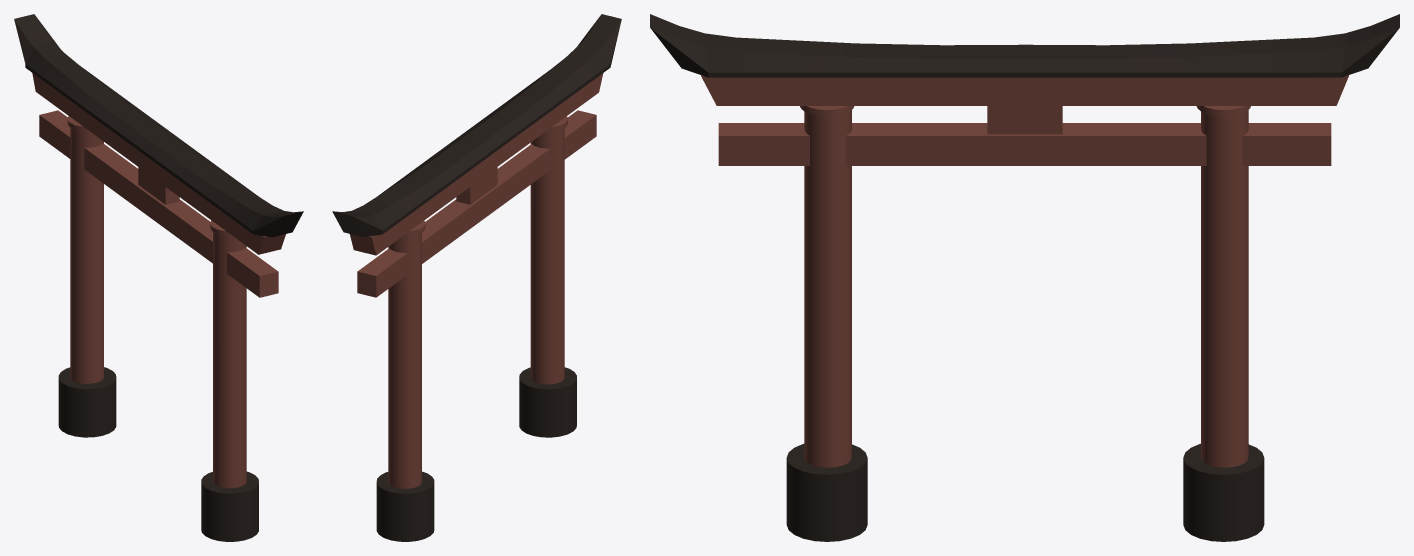
File: shrinegate.fbx
3 views of the same model, side by side, from view 1: azimuth 30°, elevation 25°; view 2: azimuth 150°, elevation 25°; view 3: azimuth 270°, elevation 25° (orthographic). The views are drawn at different scales.
Visible parts, largest first — view 1: roof, pCylinder8, pCylinder6, pCube1, pCube3, pCylinder9, pCylinder5, pCube2; view 2: roof, pCylinder6, pCylinder8, pCube1, pCube3, pCylinder9, pCylinder5, pCube2; view 3: roof, pCube1, pCube3, pCylinder8, pCylinder6, pCylinder9, pCylinder5, pCube2.
Boxes of the visible parts, left/top/right/bottom form: roof: left=14, top=14, right=303, bottom=237; pCylinder8: left=70, top=127, right=103, bottom=383; pCylinder6: left=213, top=232, right=246, bottom=488; pCube1: left=39, top=110, right=278, bottom=297; pCube3: left=32, top=73, right=285, bottom=254; pCylinder9: left=58, top=367, right=116, bottom=437; pCylinder5: left=201, top=471, right=258, bottom=541; pCube2: left=138, top=167, right=179, bottom=204; roof: left=332, top=14, right=621, bottom=237; pCylinder6: left=530, top=128, right=564, bottom=384; pCylinder8: left=388, top=232, right=421, bottom=488; pCube1: left=357, top=110, right=596, bottom=297; pCube3: left=350, top=73, right=603, bottom=255; pCylinder9: left=376, top=471, right=434, bottom=541; pCylinder5: left=519, top=367, right=576, bottom=437; pCube2: left=456, top=167, right=497, bottom=204; roof: left=650, top=14, right=1399, bottom=77; pCube1: left=718, top=123, right=1331, bottom=165; pCube3: left=701, top=75, right=1348, bottom=105; pCylinder8: left=1201, top=110, right=1248, bottom=467; pCylinder6: left=804, top=110, right=851, bottom=467; pCylinder9: left=1183, top=443, right=1264, bottom=541; pCylinder5: left=786, top=444, right=867, bottom=541; pCube2: left=987, top=106, right=1062, bottom=134.
Size of the model in its own units: 2.19 by 15.01 by 20.23.
